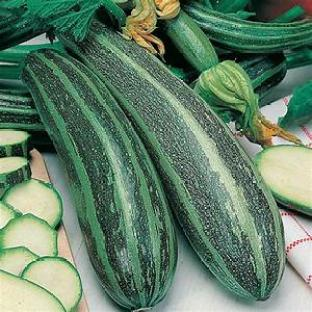Zucchini: (61, 23, 284, 299), (22, 50, 176, 309), (184, 4, 311, 53), (255, 146, 311, 215), (21, 257, 82, 311), (165, 11, 218, 72), (3, 179, 62, 227), (0, 270, 65, 311), (230, 53, 287, 99), (0, 215, 58, 256), (0, 90, 43, 130), (0, 15, 47, 49), (0, 42, 64, 63), (0, 156, 31, 194), (0, 247, 38, 275), (0, 129, 32, 158), (0, 201, 20, 228)
